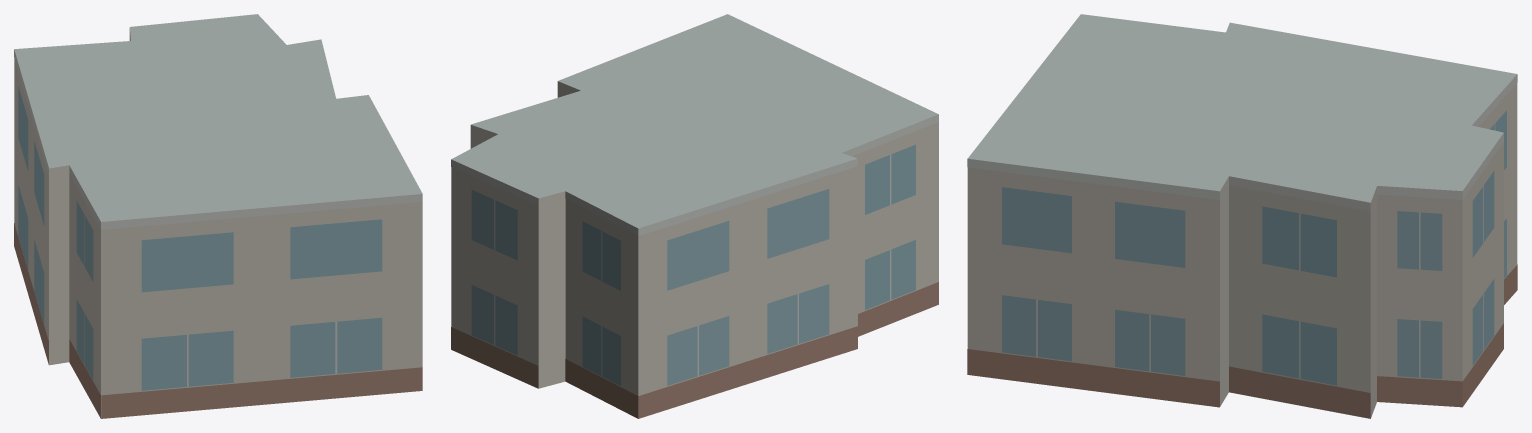
The model's file is survey-upis-32870107.glb.
3 renders of one model, left to right at view 1: azimuth 30°, elevation 25°; view 2: azimuth 150°, elevation 25°; view 3: azimuth 270°, elevation 25°, orthographic. The views are drawn at different scales.
Visible parts, largest first — view 1: survey-upis-32870107.tmp; view 2: survey-upis-32870107.tmp; view 3: survey-upis-32870107.tmp.
Part boxes in pixels (<box>): survey-upis-32870107.tmp: <box>14,14,422,418</box>; survey-upis-32870107.tmp: <box>451,14,938,418</box>; survey-upis-32870107.tmp: <box>967,14,1517,418</box>.
Size of the model in its own units: 11.44 by 6.1 by 14.08.
